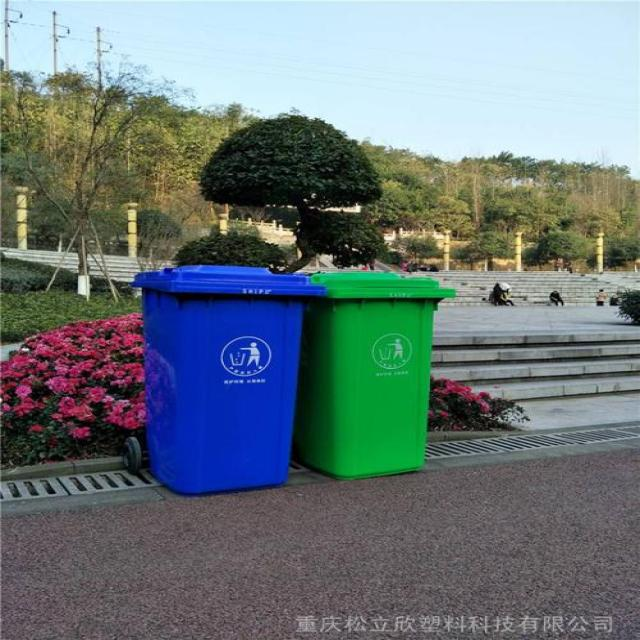garbage_bin: (130, 263, 326, 494), (300, 271, 456, 479)
